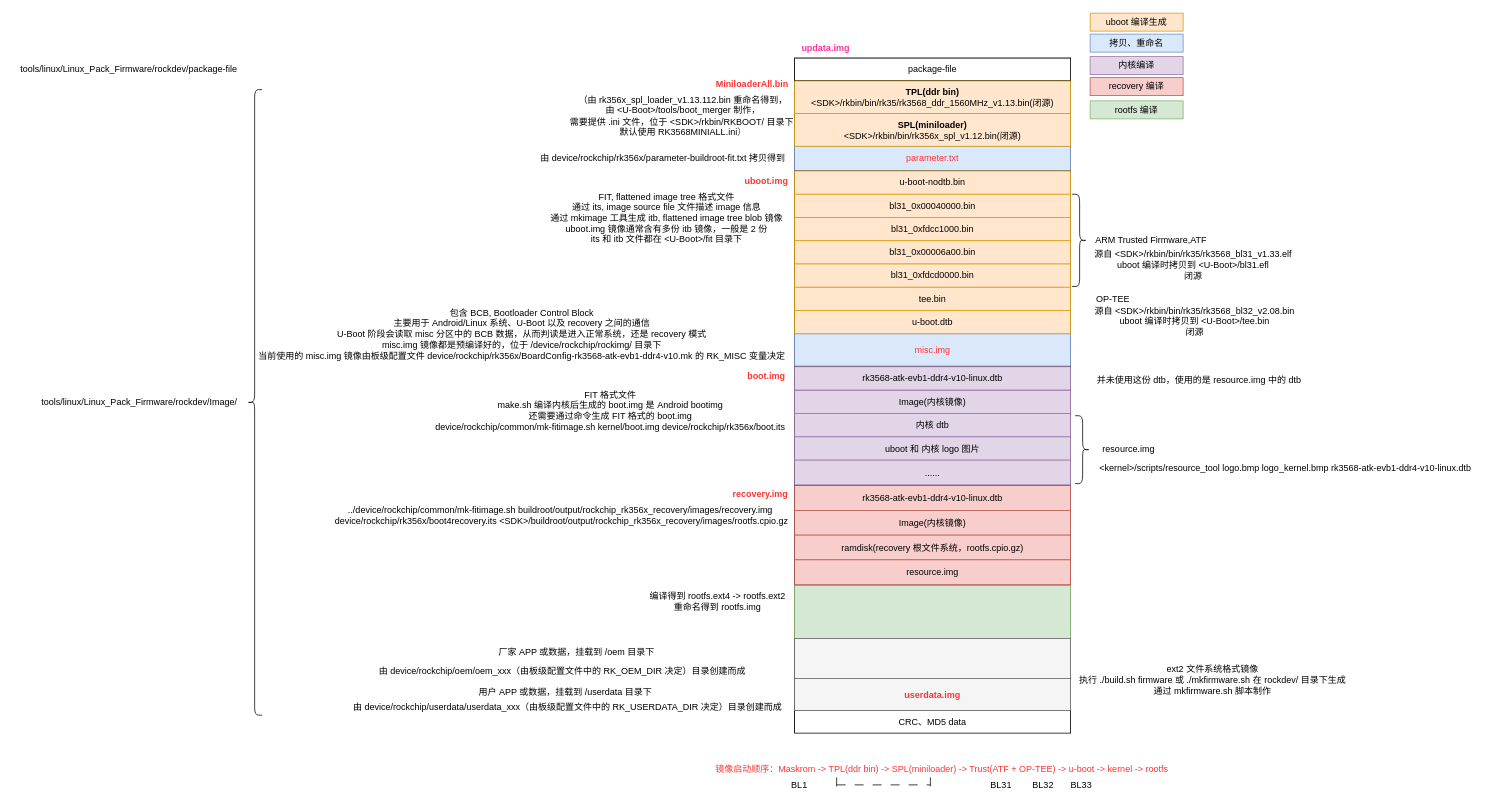
Some shapes in this 1490 by 808 pixel diagram are drawn without their labels. The shapes that lost their labels are listed below. From the top down, each one's centre as x and y in pixels, then its label:
At point 932,612: "rootfs.img".
At point 932,658: "oem.img".
At point 883,784: "BL2".
